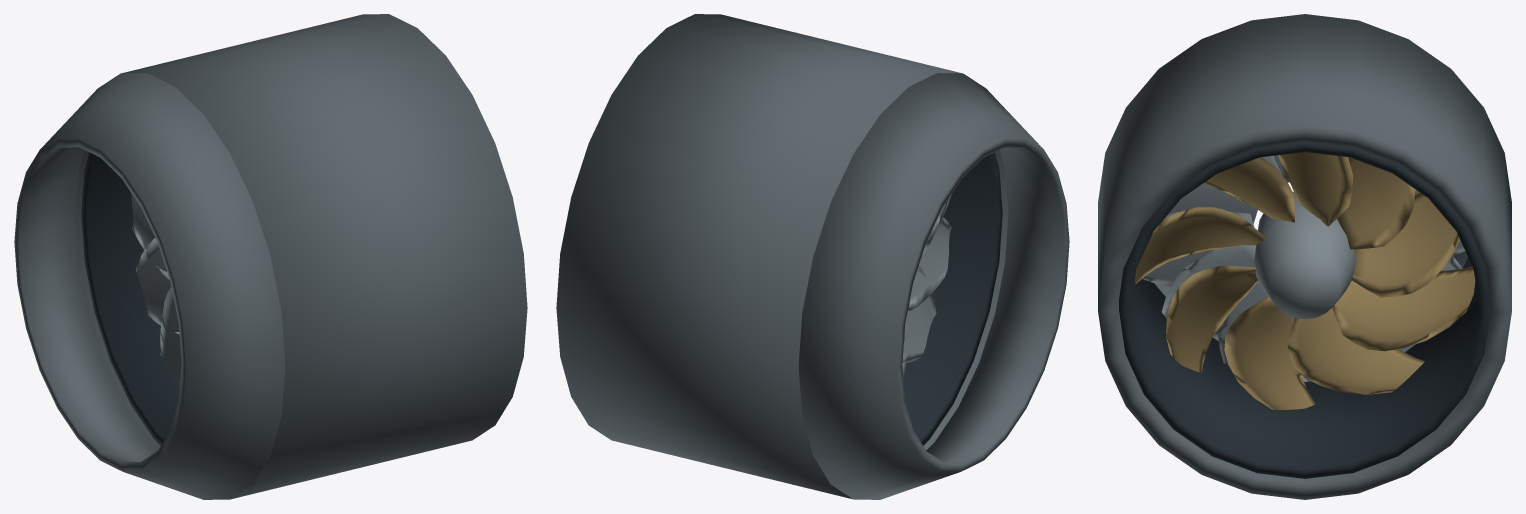
Rendered from PJ_T10_NEXTGEN_LOD1.fbx.
The picture shows the model from 3 angles, left to right: view 1: azimuth 30°, elevation 25°; view 2: azimuth 150°, elevation 25°; view 3: azimuth 270°, elevation 25°; orthographic projection. The views are drawn at different scales.
Parts seen in each view (by area): view 1: PJ_T10_NEXTGEN_LOD1_Housing.001, PJ_T10_NEXTGEN_LOD1_Nozzle.001, PJ_T10_NEXTGEN_LOD1_Lining.001, PJ_T10_NEXTGEN_LOD1_Stator_12.001, PJ_T10_NEXTGEN_LOD1_Stator_11.001, PJ_T10_NEXTGEN_LOD1_Stator_00.001; view 2: PJ_T10_NEXTGEN_LOD1_Housing.001, PJ_T10_NEXTGEN_LOD1_Nozzle.001, PJ_T10_NEXTGEN_LOD1_Lining.001, PJ_T10_NEXTGEN_LOD1_Stator_07.001, PJ_T10_NEXTGEN_LOD1_Stator_08.001; view 3: PJ_T10_NEXTGEN_LOD1_Housing.001, PJ_T10_NEXTGEN_LOD1_Lining.001, PJ_T10_NEXTGEN_LOD1_Hub.001, PJ_T10_NEXTGEN_LOD1_Rotor_08.001, PJ_T10_NEXTGEN_LOD1_Rotor_07.001, PJ_T10_NEXTGEN_LOD1_Rotor_06.001, PJ_T10_NEXTGEN_LOD1_Rotor_00.001, PJ_T10_NEXTGEN_LOD1_Rotor_05.001, PJ_T10_NEXTGEN_LOD1_Rotor_01.001, PJ_T10_NEXTGEN_LOD1_Rotor_04.001, PJ_T10_NEXTGEN_LOD1_Rotor_02.001, PJ_T10_NEXTGEN_LOD1_Rotor_03.001 (+4 smaller).
Part boxes in pixels (bbox=[...]): PJ_T10_NEXTGEN_LOD1_Housing.001: bbox=[75, 14, 527, 499]; PJ_T10_NEXTGEN_LOD1_Nozzle.001: bbox=[14, 73, 285, 499]; PJ_T10_NEXTGEN_LOD1_Lining.001: bbox=[81, 152, 179, 445]; PJ_T10_NEXTGEN_LOD1_Stator_12.001: bbox=[136, 238, 179, 334]; PJ_T10_NEXTGEN_LOD1_Stator_11.001: bbox=[160, 287, 181, 387]; PJ_T10_NEXTGEN_LOD1_Stator_00.001: bbox=[131, 193, 169, 279]; PJ_T10_NEXTGEN_LOD1_Housing.001: bbox=[556, 14, 1008, 499]; PJ_T10_NEXTGEN_LOD1_Nozzle.001: bbox=[798, 73, 1069, 499]; PJ_T10_NEXTGEN_LOD1_Lining.001: bbox=[904, 152, 1002, 445]; PJ_T10_NEXTGEN_LOD1_Stator_07.001: bbox=[907, 217, 951, 310]; PJ_T10_NEXTGEN_LOD1_Stator_08.001: bbox=[902, 265, 936, 362]; PJ_T10_NEXTGEN_LOD1_Housing.001: bbox=[1098, 14, 1511, 499]; PJ_T10_NEXTGEN_LOD1_Lining.001: bbox=[1119, 142, 1490, 478]; PJ_T10_NEXTGEN_LOD1_Hub.001: bbox=[1254, 192, 1355, 319]; PJ_T10_NEXTGEN_LOD1_Rotor_08.001: bbox=[1332, 266, 1475, 351]; PJ_T10_NEXTGEN_LOD1_Rotor_07.001: bbox=[1287, 308, 1424, 394]; PJ_T10_NEXTGEN_LOD1_Rotor_06.001: bbox=[1224, 296, 1315, 409]; PJ_T10_NEXTGEN_LOD1_Rotor_00.001: bbox=[1352, 191, 1459, 297]; PJ_T10_NEXTGEN_LOD1_Rotor_05.001: bbox=[1166, 265, 1258, 373]; PJ_T10_NEXTGEN_LOD1_Rotor_01.001: bbox=[1337, 157, 1415, 249]; PJ_T10_NEXTGEN_LOD1_Rotor_04.001: bbox=[1134, 207, 1265, 284]; PJ_T10_NEXTGEN_LOD1_Rotor_02.001: bbox=[1278, 152, 1352, 226]; PJ_T10_NEXTGEN_LOD1_Rotor_03.001: bbox=[1203, 157, 1294, 222].
Bounding box in the file's own units: 508 × 610 × 610.
